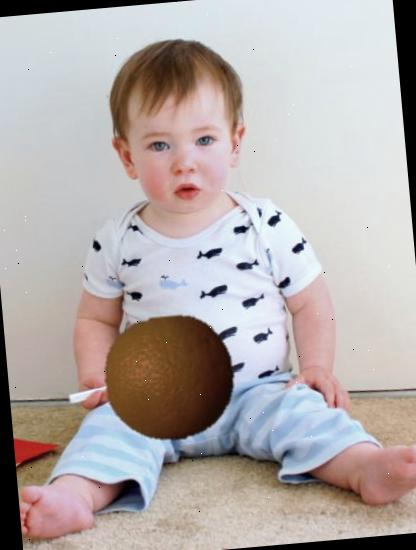Orange: (98, 306, 242, 451)
